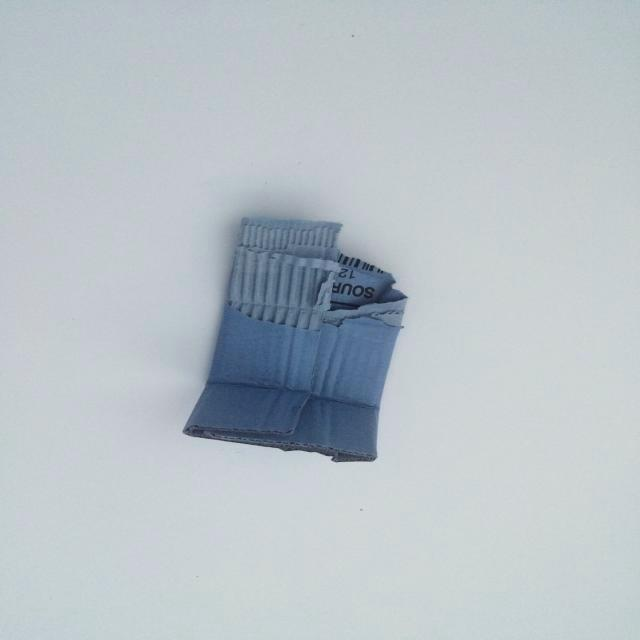cardboard: (172, 209, 416, 476)
